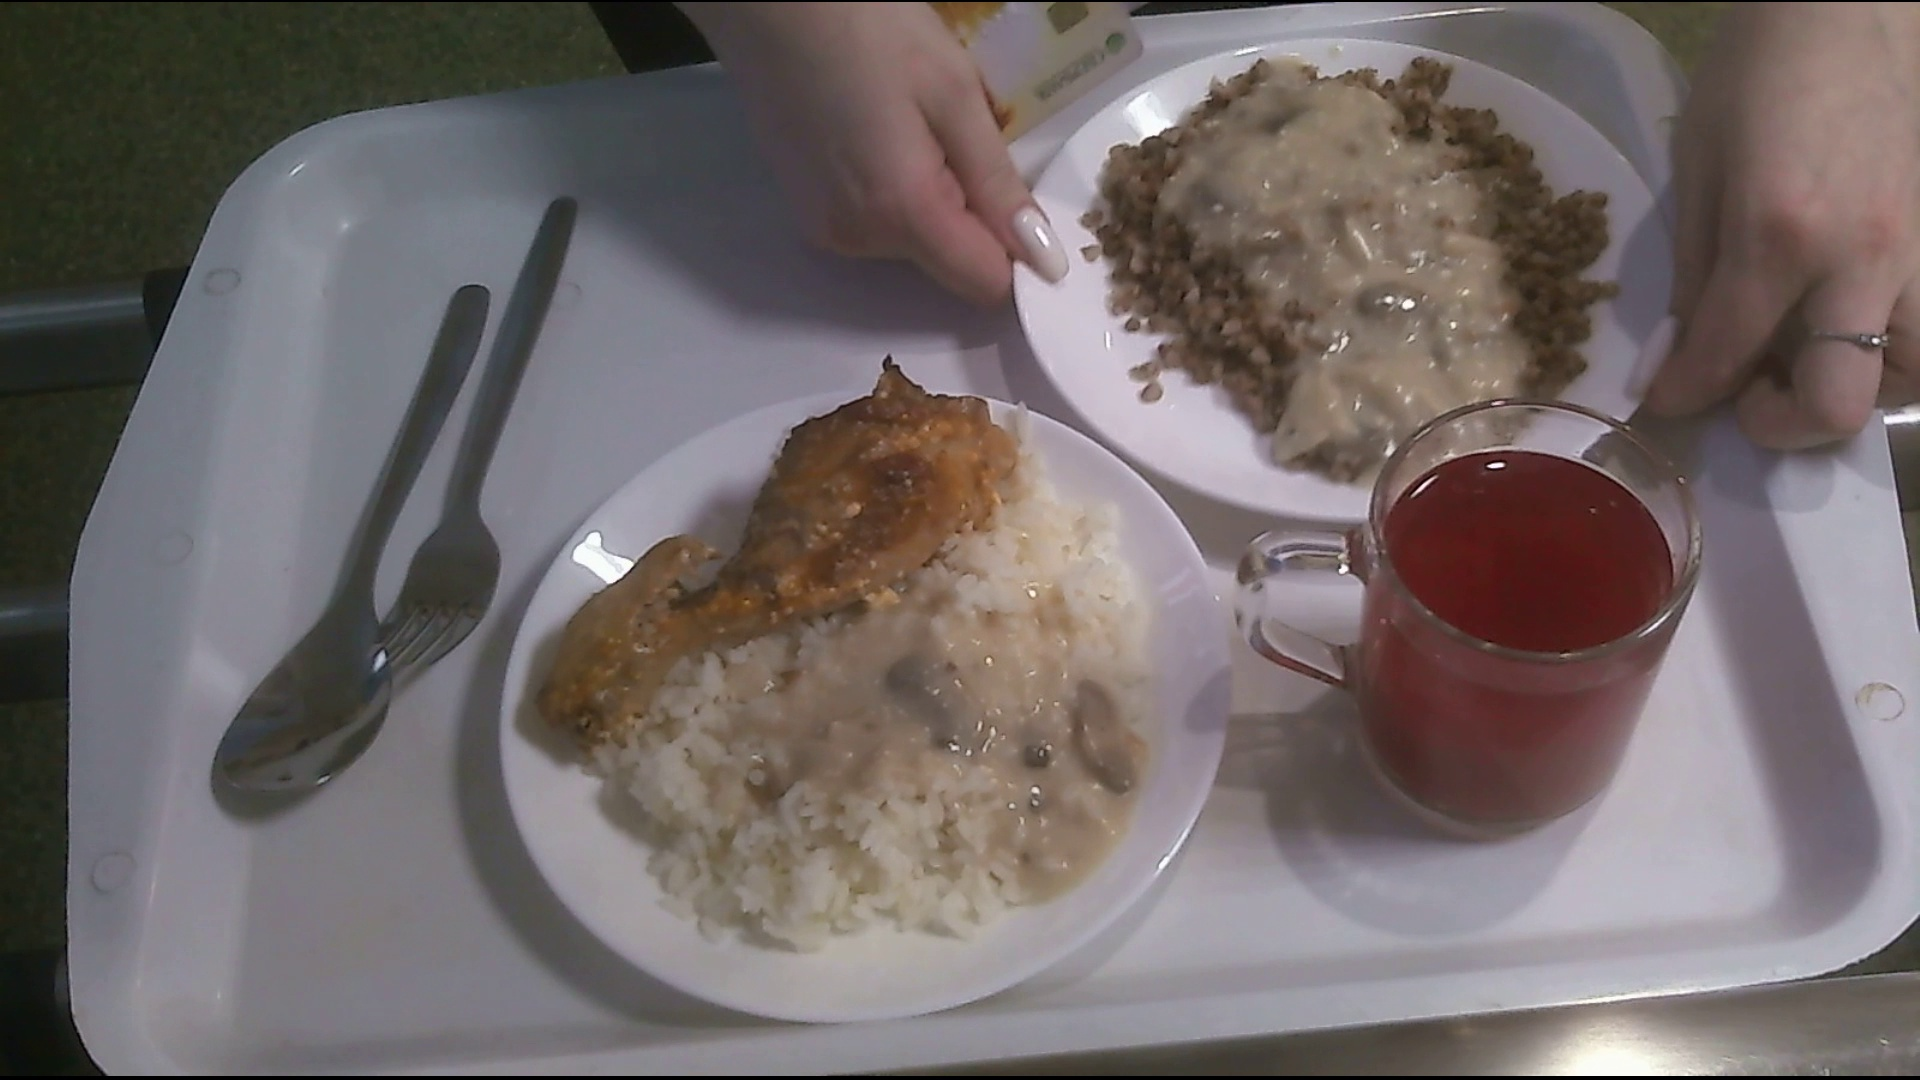cutlery: (229, 285, 483, 820), (382, 190, 579, 684)
drink: (1238, 401, 1689, 840)
plate: (502, 382, 1233, 1031), (1030, 34, 1667, 504)
